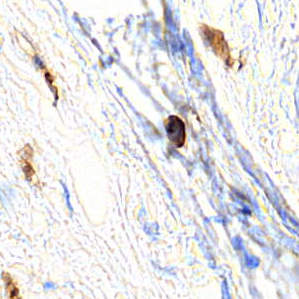Lymphocyte: (162, 113, 188, 148)
